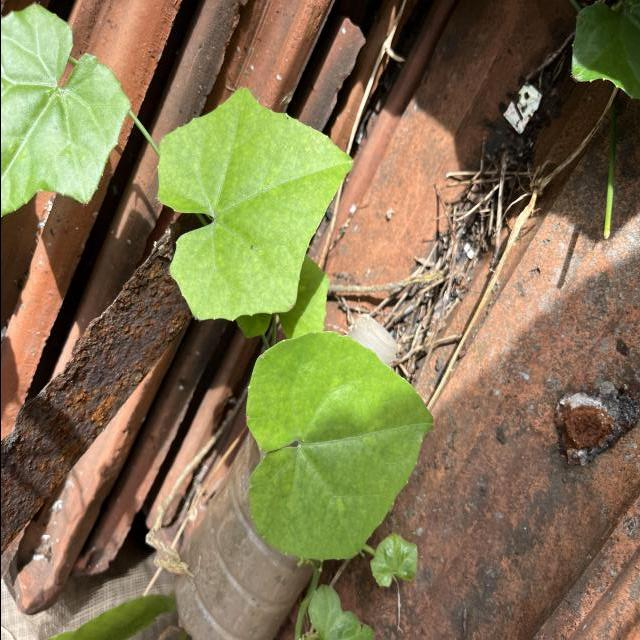Coccinia grandis: (156, 84, 354, 323), (244, 328, 436, 562)
